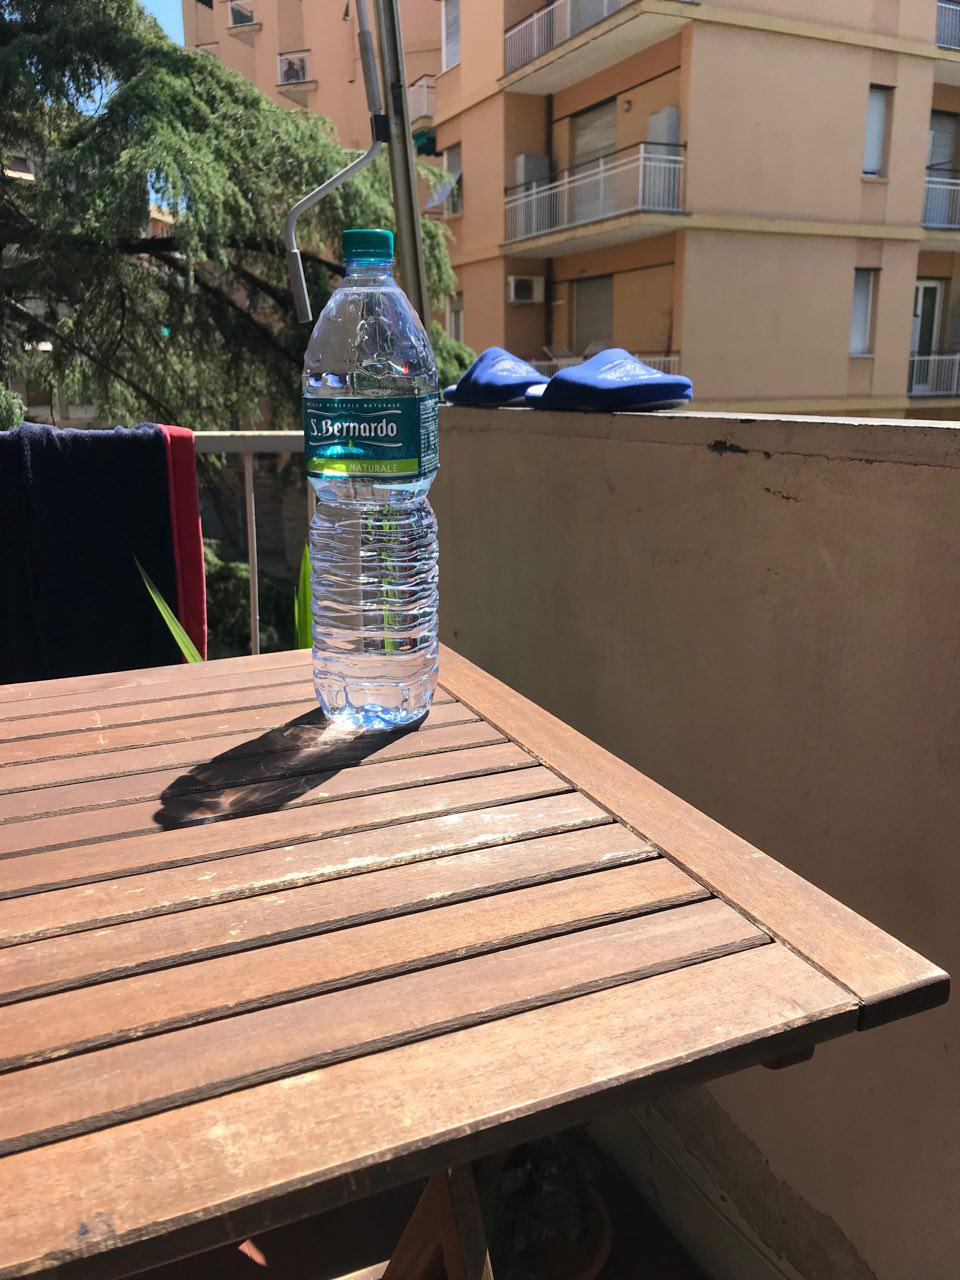san_bernardo: (301, 228, 441, 731)
